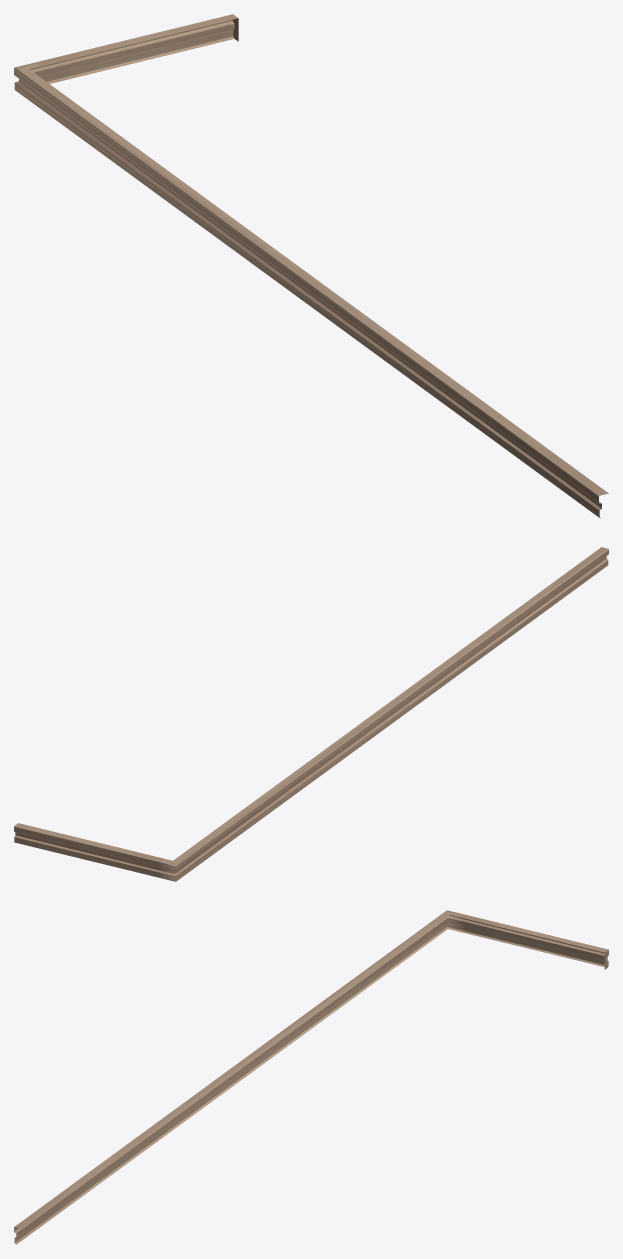
Rendered from wallPanel (3)-Merged (4).fbx.
The picture shows the model from 3 angles, top to bottom: view 1: azimuth 30°, elevation 25°; view 2: azimuth 150°, elevation 25°; view 3: azimuth 330°, elevation 25°; orthographic projection. The views are drawn at different scales.
Visible parts, largest first — view 1: wallPanel (3)-Merged (4); view 2: wallPanel (3)-Merged (4); view 3: wallPanel (3)-Merged (4).
Boxes of the visible parts, x1=… form: wallPanel (3)-Merged (4): x1=14, y1=14, x2=608, y2=518; wallPanel (3)-Merged (4): x1=14, y1=547, x2=608, y2=881; wallPanel (3)-Merged (4): x1=14, y1=910, x2=608, y2=1244.
Size of the model in its own units: 1753 by 181 by 8106.
